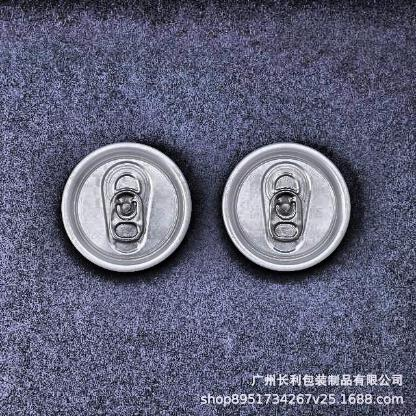Can: (60, 136, 196, 276), (219, 136, 355, 274)
